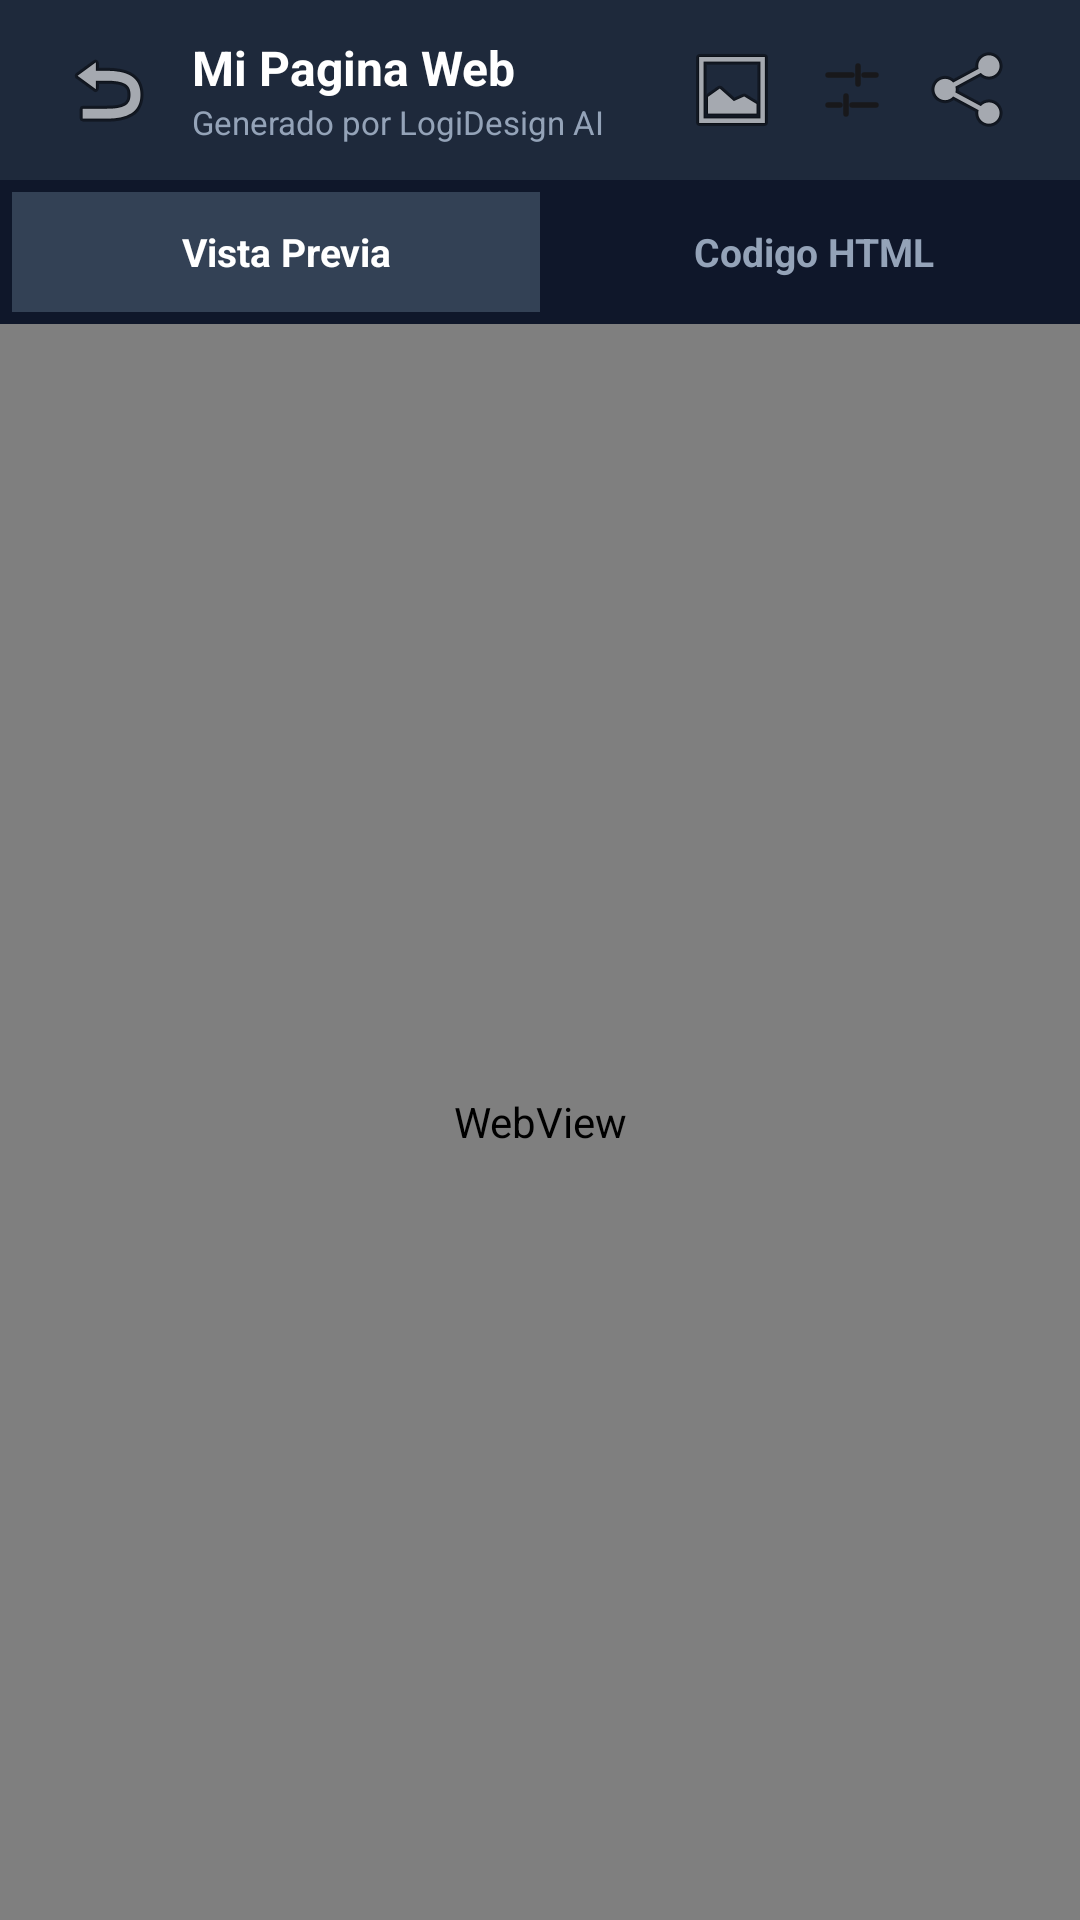

Icon click points for this 1080px x 1920px phone screenshot, format [x,y]:
Copiar o Compartir Codigo: [967,89]
Volver: [109,90]
